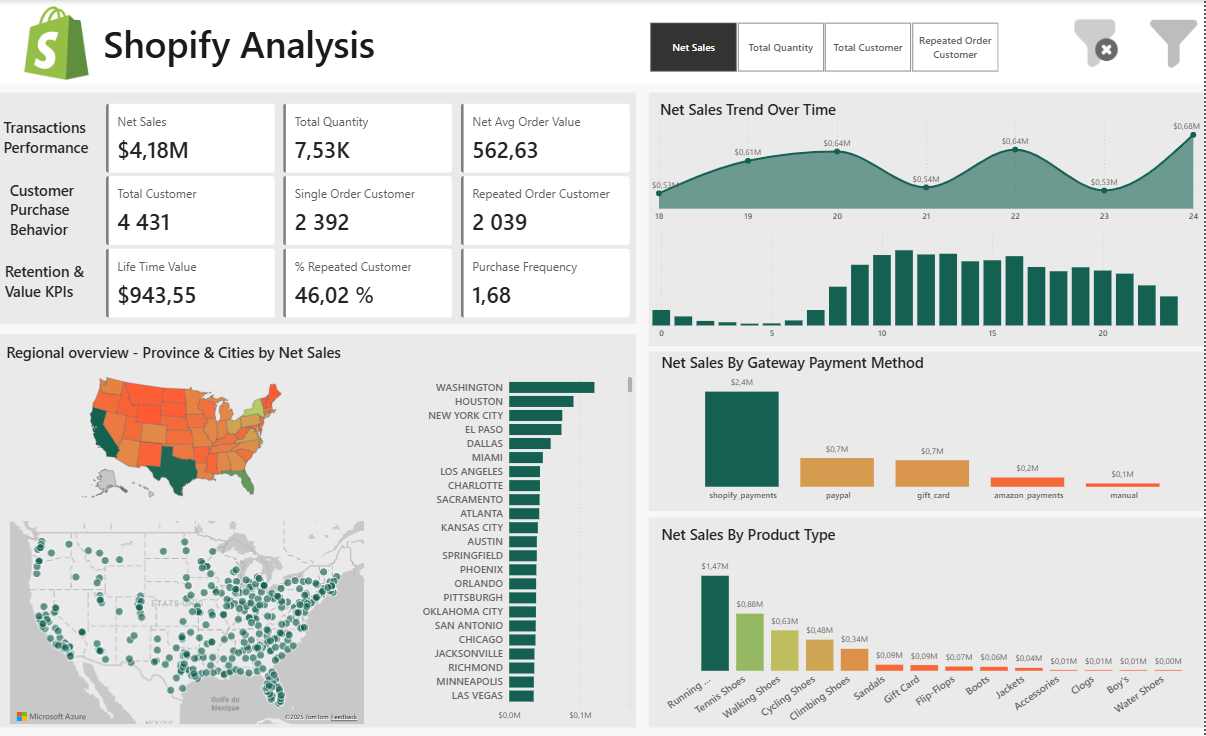

Layout of this report page (visuals, bound fields, positions):
{"tool":"powerbi","page":{"name":"Home","canvas":[1750,1070],"ordinal":0},"visuals":[{"type":"shape","title":"Shopify Analysis","box":[0,0.3,1750,123.6],"z":0,"group":"g3"},{"type":"group","id":"g1","title":"KPIs_grp","box":[0,135.3,925,337],"z":0},{"type":"shape","title":"KPIs_Container","box":[0,135.3,925,337],"z":0,"group":"g1"},{"type":"cardVisual","title":"Net sales","fields":{"Data":["All Measures.Net Sales","All Measures.Total Quantity","All Measures.Net Avg Order Value"]},"box":[143.3,140.2,782.2,121.5],"z":0,"group":"g2"},{"type":"image","title":"Logo","box":[13.9,9.7,134.9,107.1],"z":1000,"group":"g3"},{"type":"group","id":"g2","title":"KPIs","box":[0,140.2,925,332.1],"z":1000,"group":"g1"},{"type":"textbox","box":[0,165.7,145.4,70.5],"z":1000,"group":"g2"},{"type":"shape","title":"Location_Container","box":[0,485.2,925,572.4],"z":1000},{"type":"image","title":"Filter_Btn","box":[1671.9,20,69.1,87.2],"z":2000,"group":"g3"},{"type":"cardVisual","title":"Net sales","fields":{"Data":["All Measures.Total Customer","All Measures.Single Order Customer","All Measures.Repeated Order Customer"]},"box":[143.3,246,782.2,121.5],"z":2000,"group":"g2"},{"type":"shapeMap","fields":{"Value":["All Measures.Net Sales"],"Category":["shopify_sales.Billing Address Province"]},"box":[0,534.3,528.8,203.5],"z":2000},{"type":"group","id":"g3","title":"NavBar_grp","box":[0,0.3,1750,123.6],"z":3000},{"type":"image","title":"Remove_FilterBtn","box":[1550.1,1.8,83.6,121.8],"z":3000,"group":"g3"},{"type":"textbox","box":[8.2,255.8,133.1,103.8],"z":3000,"group":"g2"},{"type":"slicer","title":"Select_Measures","fields":{"Values":["Measures 2.Measures"]},"box":[925,31.2,545.2,74.5],"z":4000,"group":"g3"},{"type":"cardVisual","title":"Net sales","fields":{"Data":["All Measures.Life Time Value","All Measures.% Repeated Customer","All Measures.Purchase Frequency"]},"box":[143.3,351.8,782.2,121.5],"z":4000,"group":"g2"},{"type":"azureMap","fields":{"Category":["shopify_sales.Correct Location"]},"box":[9.1,752.3,525.2,305.3],"z":4000},{"type":"textbox","box":[2,375.3,143.3,74.5],"z":5000,"group":"g2"},{"type":"clusteredBarChart","fields":{"Y":["All Measures.Net Sales"],"Category":["shopify_sales.CITY"]},"box":[581.5,534.3,343.5,523.4],"z":5000},{"type":"cardVisual","fields":{"Data":["All Measures.Dynamic Location Title"]},"box":[9.1,485.2,663.3,50.9],"z":6000},{"type":"shape","title":"Location_Container","box":[943.2,134.5,806.9,368.9],"z":7000},{"type":"stackedAreaChart","fields":{"Y":["All Measures.Net Sales"],"Category":["shopify_sales.Invoice Date.Variation.Hiérarchie de dates.Jour"]},"box":[943.2,159.9,806.9,172.6],"z":8000},{"type":"clusteredColumnChart","fields":{"Y":["All Measures.Net Sales"],"Category":["shopify_sales.HOUR"]},"box":[943.2,321.7,806.9,181.7],"z":9000},{"type":"cardVisual","fields":{"Data":["All Measures.Dynamic trend Title"]},"box":[959.5,134.5,408.9,45.4],"z":10000},{"type":"shape","title":"Location_Container","box":[943.2,510.7,806.9,232.6],"z":11000},{"type":"shape","title":"Location_Container","box":[943.2,752.3,806.9,305.3],"z":12000},{"type":"clusteredColumnChart","fields":{"Y":["All Measures.Net Sales"],"Category":["shopify_sales.Gateway"]},"box":[965,534.3,785.1,203.5],"z":13000},{"type":"clusteredColumnChart","fields":{"Y":["All Measures.Net Sales"],"Category":["shopify_sales.Product Type"]},"box":[959.5,796,785.1,274.4],"z":14000},{"type":"cardVisual","fields":{"Data":["All Measures.Dynamic Gateway Title"]},"box":[961.3,503.4,408.9,45.4],"z":15000},{"type":"cardVisual","fields":{"Data":["All Measures.Dynamic Product Title"]},"box":[961.3,752.3,310.8,45.4],"z":16000}]}

Visuals, with their boxes in screenshot pixels (x1, y1, x2, y2), scaled from the page's 1750x1070 canvas onto the 1206x736 screenshot:
"Shopify Analysis" shape: [x1=0, y1=0, x2=1205, y2=85]
"KPIs_grp" group: [x1=0, y1=93, x2=637, y2=325]
"KPIs_Container" shape: [x1=0, y1=93, x2=637, y2=325]
"Net sales" cardVisual: [x1=99, y1=96, x2=638, y2=180]
"Logo" image: [x1=10, y1=7, x2=103, y2=80]
"KPIs" group: [x1=0, y1=96, x2=637, y2=325]
textbox: [x1=0, y1=114, x2=100, y2=162]
"Location_Container" shape: [x1=0, y1=334, x2=637, y2=727]
"Filter_Btn" image: [x1=1152, y1=14, x2=1200, y2=74]
"Net sales" cardVisual: [x1=99, y1=169, x2=638, y2=253]
shapeMap - All Measures.Net Sales x shopify_sales.Billing Address Province: [x1=0, y1=368, x2=364, y2=507]
"NavBar_grp" group: [x1=0, y1=0, x2=1205, y2=85]
"Remove_FilterBtn" image: [x1=1068, y1=1, x2=1126, y2=85]
textbox: [x1=6, y1=176, x2=97, y2=247]
"Select_Measures" slicer: [x1=637, y1=21, x2=1013, y2=73]
"Net sales" cardVisual: [x1=99, y1=242, x2=638, y2=326]
azureMap - shopify_sales.Correct Location: [x1=6, y1=517, x2=368, y2=727]
textbox: [x1=1, y1=258, x2=100, y2=309]
clusteredBarChart - All Measures.Net Sales x shopify_sales.CITY: [x1=401, y1=368, x2=637, y2=728]
cardVisual - All Measures.Dynamic Location Title: [x1=6, y1=334, x2=463, y2=369]
"Location_Container" shape: [x1=650, y1=93, x2=1205, y2=346]
stackedAreaChart - All Measures.Net Sales x shopify_sales.Invoice Date.Variation.Hiérarchie de dates.Jour: [x1=650, y1=110, x2=1205, y2=229]
clusteredColumnChart - All Measures.Net Sales x shopify_sales.HOUR: [x1=650, y1=221, x2=1205, y2=346]
cardVisual - All Measures.Dynamic trend Title: [x1=661, y1=93, x2=943, y2=124]
"Location_Container" shape: [x1=650, y1=351, x2=1205, y2=511]
"Location_Container" shape: [x1=650, y1=517, x2=1205, y2=727]
clusteredColumnChart - All Measures.Net Sales x shopify_sales.Gateway: [x1=665, y1=368, x2=1205, y2=507]
clusteredColumnChart - All Measures.Net Sales x shopify_sales.Product Type: [x1=661, y1=548, x2=1202, y2=735]
cardVisual - All Measures.Dynamic Gateway Title: [x1=662, y1=346, x2=944, y2=377]
cardVisual - All Measures.Dynamic Product Title: [x1=662, y1=517, x2=877, y2=549]
